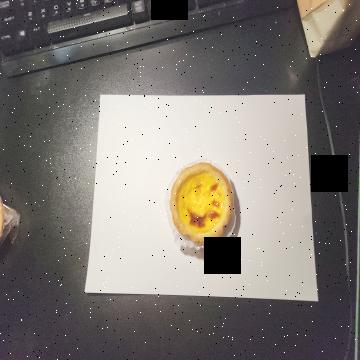EggTart: (170, 161, 234, 245)
